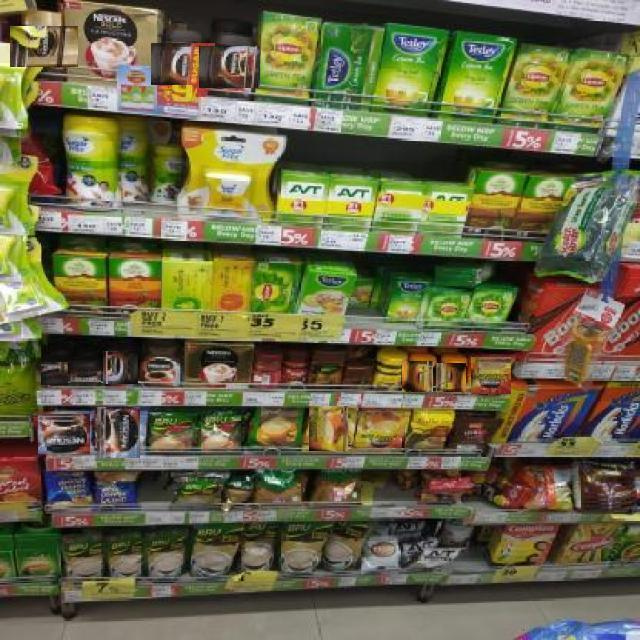Coffee: (9, 26, 78, 67), (152, 42, 215, 85), (200, 46, 260, 88), (37, 413, 90, 454), (97, 408, 140, 458), (139, 340, 183, 386), (357, 410, 405, 448), (309, 406, 348, 451), (470, 356, 511, 394), (102, 352, 138, 384), (402, 361, 433, 392), (436, 363, 466, 392), (71, 360, 101, 385), (40, 361, 68, 385)
